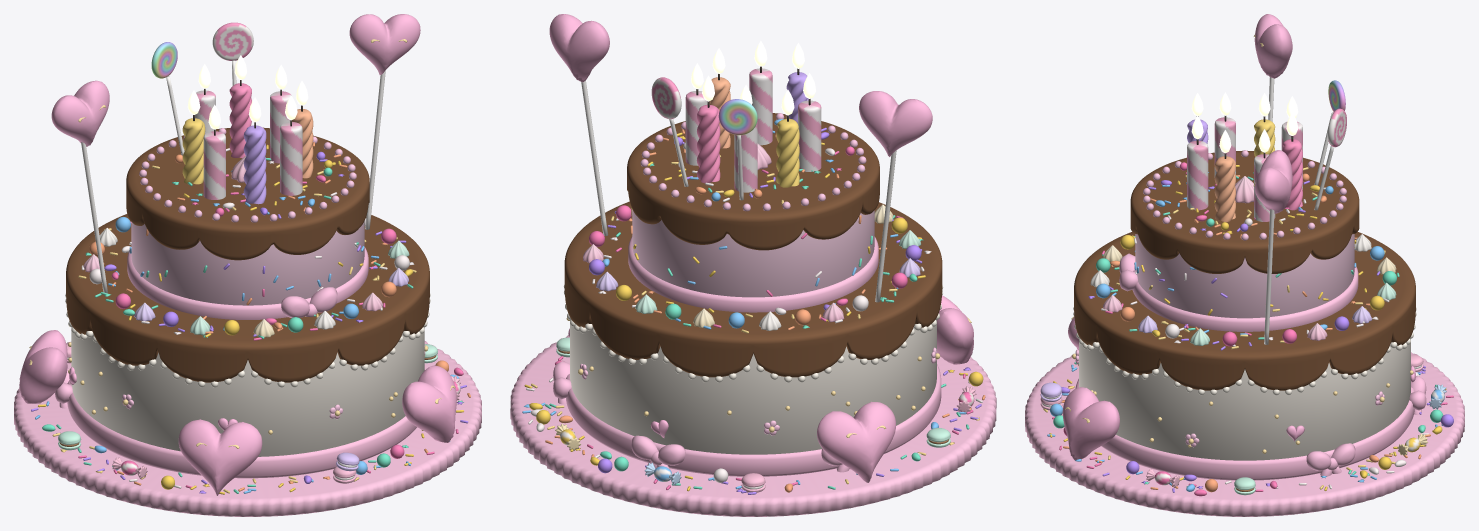
The model's file is cake2.glb.
3 renders of one model, left to right at view 1: azimuth 30°, elevation 25°; view 2: azimuth 150°, elevation 25°; view 3: azimuth 270°, elevation 25°, orthographic. The views are drawn at different scales.
Visible parts, largest first — view 1: C2_Lower_Ganache, C2_Lower_Tier, C2_Board, C2_Upper_Ganache, C2_Hearts, C2_Upper_Tier, C2_Candies, C2_Lower_Band, C2_Meringues, C2_Sprinkles, C2_Upper_Band, C2_Twist_Candle_3 (+11 smaller); view 2: C2_Lower_Ganache, C2_Lower_Tier, C2_Board, C2_Upper_Ganache, C2_Upper_Tier, C2_Hearts, C2_Candies, C2_Lower_Band, C2_Upper_Band, C2_Meringues, C2_Sprinkles, C2_Bows (+12 smaller); view 3: C2_Lower_Tier, C2_Lower_Ganache, C2_Board, C2_Upper_Ganache, C2_Upper_Tier, C2_Hearts, C2_Candies, C2_Lower_Band, C2_Meringues, C2_Upper_Band, C2_Sprinkles, C2_Bows (+10 smaller).
Boxes of the visible parts, x1,y1,x2,y2 form: C2_Lower_Ganache: [66, 214, 429, 382]; C2_Lower_Tier: [71, 327, 424, 456]; C2_Board: [14, 341, 481, 516]; C2_Upper_Ganache: [126, 127, 369, 260]; C2_Hearts: [19, 14, 456, 495]; C2_Upper_Tier: [131, 222, 364, 305]; C2_Candies: [42, 22, 463, 489]; C2_Lower_Band: [67, 380, 416, 478]; C2_Meringues: [58, 156, 437, 483]; C2_Sprinkles: [31, 142, 470, 494]; C2_Upper_Band: [127, 247, 368, 319]; C2_Twist_Candle_3: [243, 125, 266, 204]; C2_Lower_Ganache: [564, 201, 942, 377]; C2_Lower_Tier: [570, 320, 936, 454]; C2_Board: [510, 335, 996, 516]; C2_Upper_Ganache: [627, 113, 879, 250]; C2_Upper_Tier: [632, 209, 874, 297]; C2_Hearts: [549, 14, 973, 482]; C2_Candies: [529, 77, 983, 492]; C2_Lower_Band: [566, 364, 941, 476]; C2_Upper_Band: [628, 236, 878, 312]; C2_Meringues: [556, 143, 950, 492]; C2_Sprinkles: [522, 127, 985, 494]; C2_Bows: [553, 361, 849, 472]; C2_Lower_Tier: [1079, 339, 1410, 460]; C2_Lower_Ganache: [1074, 231, 1415, 390]; C2_Board: [1025, 352, 1464, 516]; C2_Upper_Ganache: [1130, 150, 1359, 273]; C2_Upper_Tier: [1135, 234, 1354, 318]; C2_Hearts: [1062, 14, 1292, 460]; C2_Candies: [1050, 80, 1453, 496]; C2_Lower_Band: [1075, 379, 1414, 480]; C2_Meringues: [1040, 176, 1423, 495]; C2_Upper_Band: [1132, 266, 1358, 331]; C2_Sprinkles: [1043, 165, 1453, 492]; C2_Bows: [1119, 253, 1426, 476].
Bounding box in the file's own units: 1.4 × 1.18 × 1.39.
